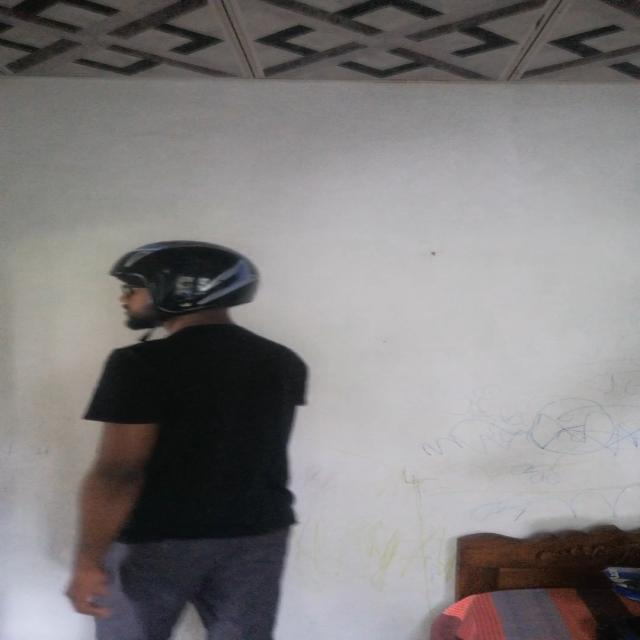Helmet_Wearer: (92, 237, 267, 369)
Person: (65, 241, 323, 640)
